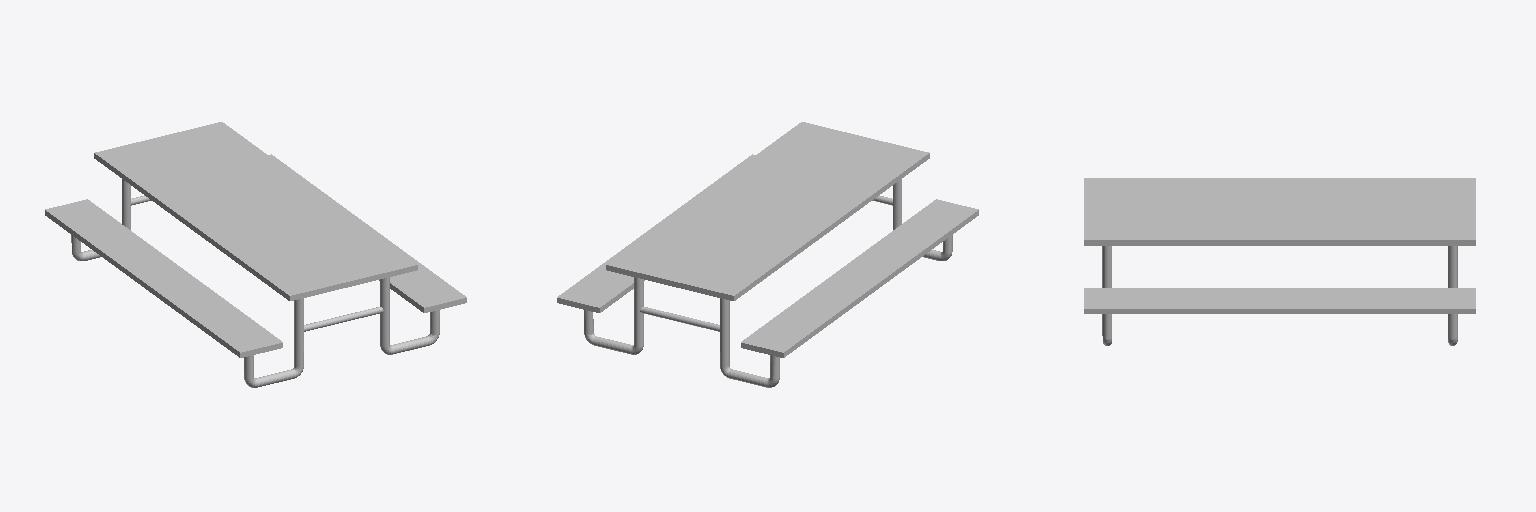
Rendered from picnic table.obj.
3 views of the same model, side by side, from view 1: azimuth 30°, elevation 25°; view 2: azimuth 150°, elevation 25°; view 3: azimuth 270°, elevation 25° (orthographic).
Parts seen in each view (by area): view 1: Цилиндр.003; view 2: Цилиндр.003; view 3: Цилиндр.003.
Boxes of the visible parts, x1,y1,x2,y2 form: Цилиндр.003: [45, 122, 466, 387]; Цилиндр.003: [557, 122, 978, 387]; Цилиндр.003: [1084, 178, 1475, 345].
Bounding box in the file's own units: 1061 × 422 × 1586.